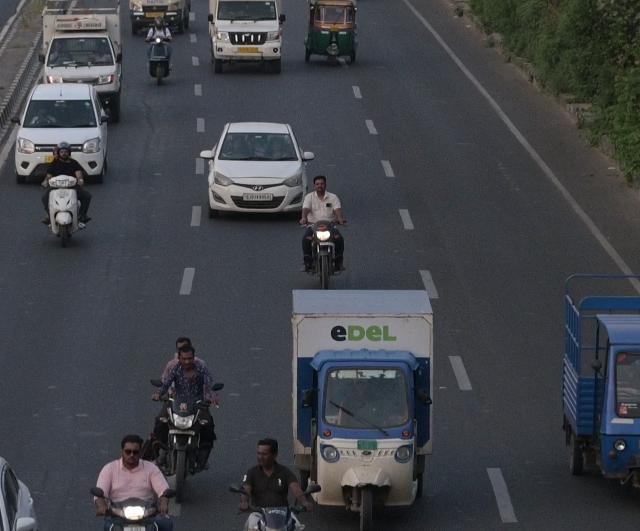With Helmet: (58, 142, 72, 160), (153, 16, 165, 30)
Without Helmet: (119, 433, 145, 467), (254, 436, 280, 468), (177, 342, 199, 370), (312, 173, 328, 195)
